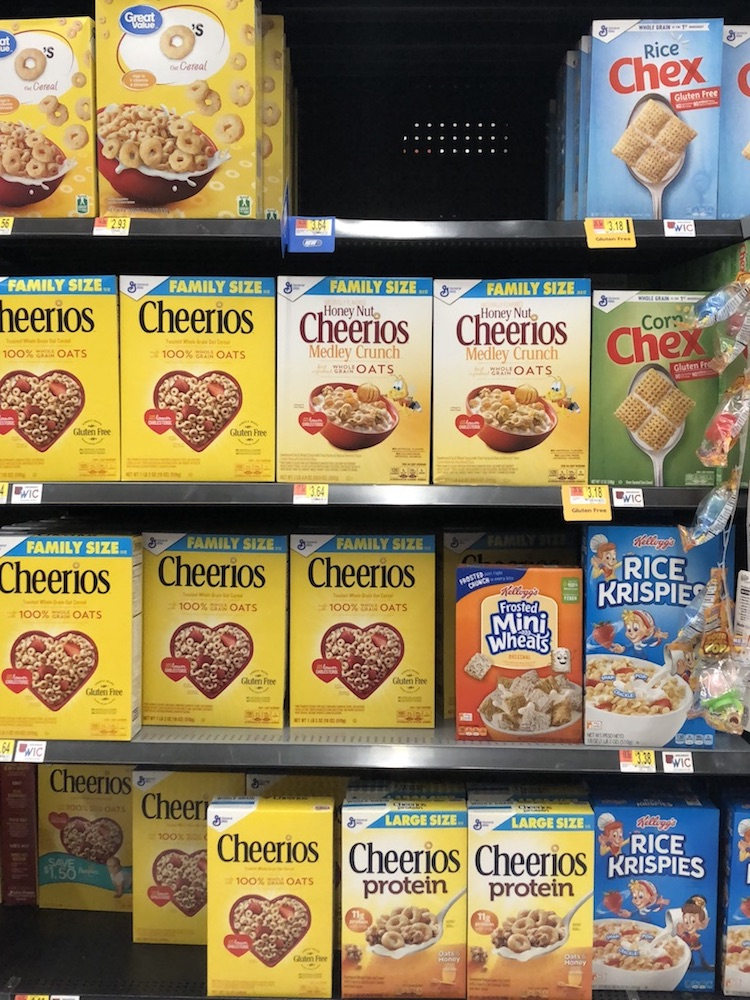Frosted Mini Original -9295869: (457, 564, 586, 742)
